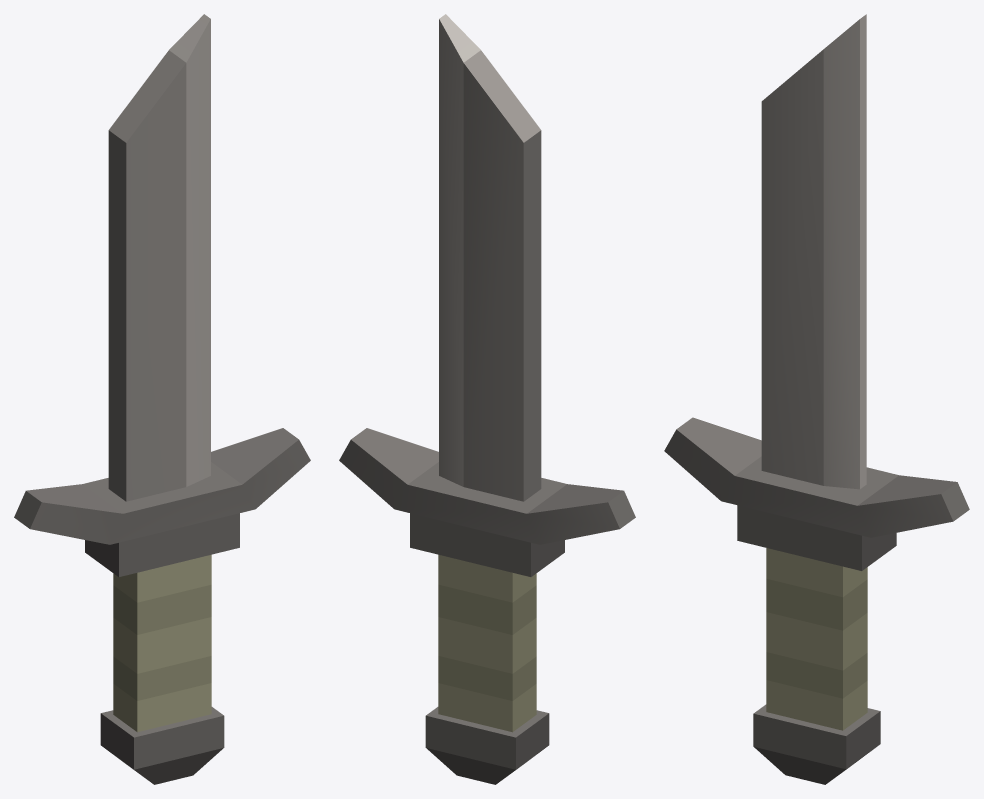
Rendered from SF_Wep_Human_Dagger_01.fbx.
The picture shows the model from 3 angles, left to right: view 1: azimuth 30°, elevation 25°; view 2: azimuth 150°, elevation 25°; view 3: azimuth 330°, elevation 25°; orthographic projection. The views are drawn at different scales.
Parts seen in each view (by area): view 1: SF_Wep_Human_Dagger_01; view 2: SF_Wep_Human_Dagger_01; view 3: SF_Wep_Human_Dagger_01.
Boxes of the visible parts, x1=… form: SF_Wep_Human_Dagger_01: x1=14, y1=14, x2=310, y2=784; SF_Wep_Human_Dagger_01: x1=339, y1=14, x2=635, y2=784; SF_Wep_Human_Dagger_01: x1=664, y1=14, x2=969, y2=784.
Bounding box in the file's own units: 0.4703 × 1.19 × 0.1178.
